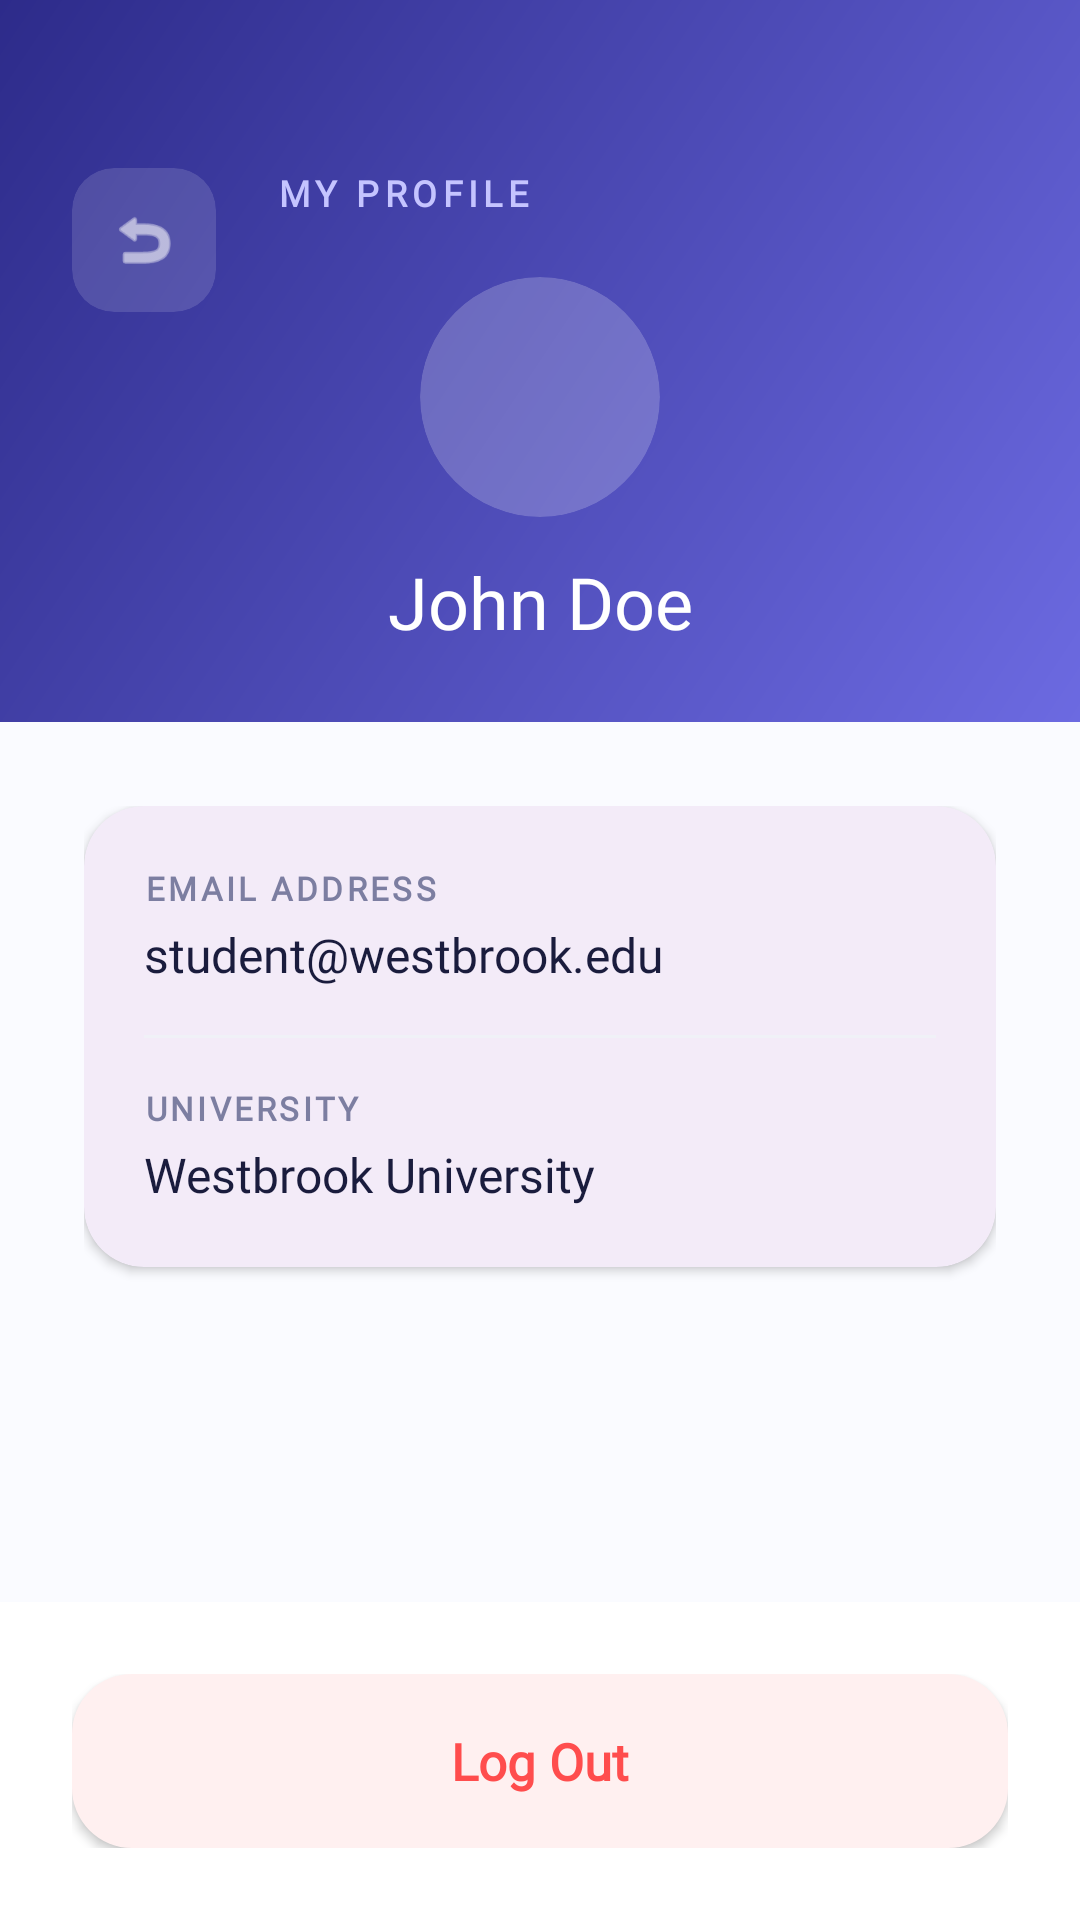

Where icons sit on this 1080px x 1920px app screen, as (x1, y1, x2, y2):
Back: (119, 217, 171, 264)
